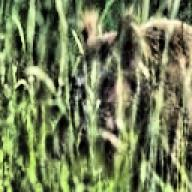boar: (45, 6, 192, 192)
